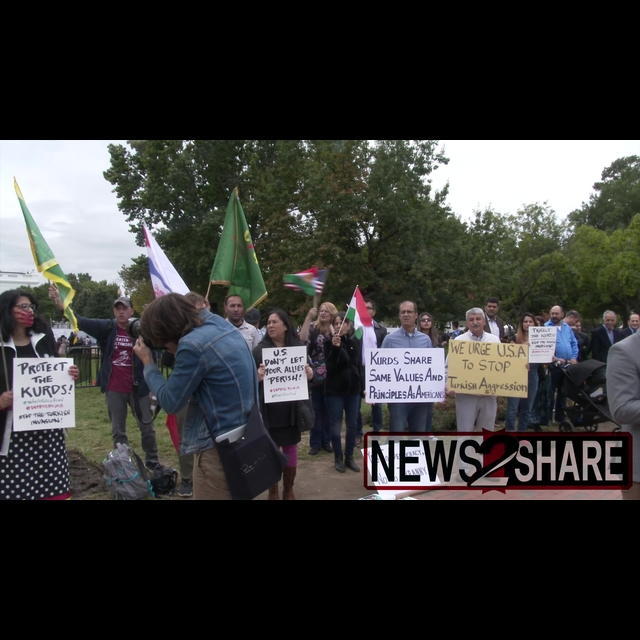IBKY: (344, 284, 374, 334)
